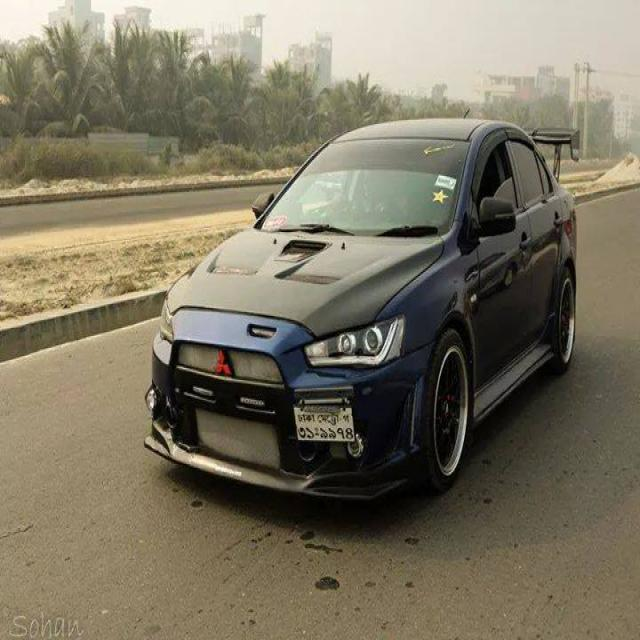numberplate: (292, 401, 356, 443)
